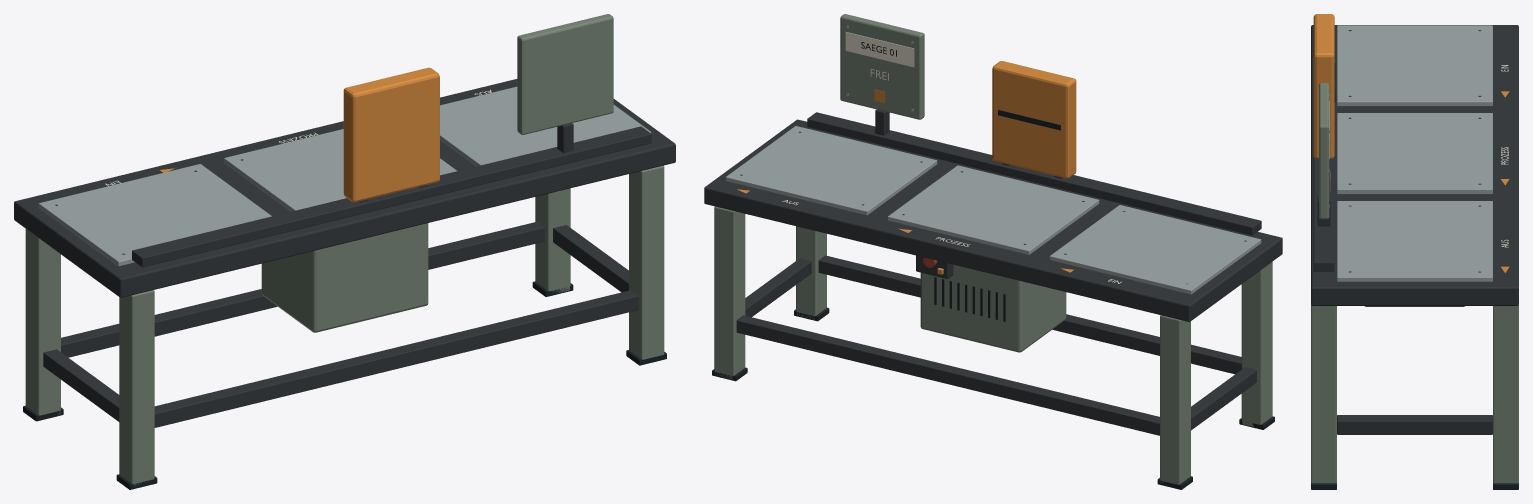
The model's file is Saege01.fbx.
The picture shows the model from 3 angles, left to right: view 1: azimuth 30°, elevation 25°; view 2: azimuth 150°, elevation 25°; view 3: azimuth 270°, elevation 25°; orthographic projection. The views are drawn at different scales.
Parts seen in each view (by area): view 1: MainTable__MachineSteel.004, MotorHousing__MutedGreen.004, Platen_0__BrushedSteel.004, Moving_ParkedGuard__SafetyOrange.004, LongBrace__MachineSteel.008, StatusPlate__MutedGreen.004, RearRail__MachineSteel.004, Platen_2__BrushedSteel.004, Leg__MutedGreen.016, Leg__MutedGreen.018, Platen_1__BrushedSteel.004, LongBrace__MachineSteel.009 (+4 smaller); view 2: MainTable__MachineSteel.004, Platen_0__BrushedSteel.004, Platen_2__BrushedSteel.004, Platen_1__BrushedSteel.004, MotorHousing__MutedGreen.004, Moving_ParkedGuard__SafetyOrange.004, LongBrace__MachineSteel.009, RearRail__MachineSteel.004, StatusPlate__MutedGreen.004, Leg__MutedGreen.019, Leg__MutedGreen.017, LongBrace__MachineSteel.008 (+5 smaller); view 3: MainTable__MachineSteel.004, Platen_1__BrushedSteel.004, Platen_0__BrushedSteel.004, Platen_2__BrushedSteel.004, Leg__MutedGreen.018, Leg__MutedGreen.019, EndBrace__MachineSteel.009, Moving_ParkedGuard__SafetyOrange.004, RearRail__MachineSteel.004, StatusPlate__MutedGreen.004.
Boxes of the visible parts, left/top/right/bottom form: MainTable__MachineSteel.004: left=14, top=79, right=675, bottom=297; MotorHousing__MutedGreen.004: left=261, top=223, right=428, bottom=332; Platen_0__BrushedSteel.004: left=38, top=164, right=271, bottom=266; Moving_ParkedGuard__SafetyOrange.004: left=343, top=67, right=439, bottom=202; LongBrace__MachineSteel.008: left=154, top=290, right=638, bottom=427; StatusPlate__MutedGreen.004: left=517, top=14, right=613, bottom=134; RearRail__MachineSteel.004: left=132, top=126, right=651, bottom=267; Platen_2__BrushedSteel.004: left=440, top=86, right=651, bottom=166; Leg__MutedGreen.016: left=119, top=290, right=154, bottom=485; Leg__MutedGreen.018: left=629, top=165, right=664, bottom=359; Platen_1__BrushedSteel.004: left=224, top=129, right=456, bottom=211; LongBrace__MachineSteel.009: left=61, top=221, right=544, bottom=357; MainTable__MachineSteel.004: left=704, top=119, right=1282, bottom=321; Platen_0__BrushedSteel.004: left=1049, top=205, right=1261, bottom=294; Platen_2__BrushedSteel.004: left=725, top=126, right=937, bottom=215; Platen_1__BrushedSteel.004: left=887, top=165, right=1099, bottom=254; MotorHousing__MutedGreen.004: left=920, top=264, right=1066, bottom=352; Moving_ParkedGuard__SafetyOrange.004: left=992, top=61, right=1076, bottom=178; LongBrace__MachineSteel.009: left=736, top=315, right=1159, bottom=435; RearRail__MachineSteel.004: left=807, top=112, right=1261, bottom=235; StatusPlate__MutedGreen.004: left=840, top=14, right=924, bottom=119; Leg__MutedGreen.019: left=714, top=206, right=745, bottom=379; Leg__MutedGreen.017: left=1160, top=315, right=1190, bottom=485; LongBrace__MachineSteel.008: left=818, top=255, right=1241, bottom=374; MainTable__MachineSteel.004: left=1311, top=25, right=1518, bottom=305; Platen_1__BrushedSteel.004: left=1337, top=113, right=1492, bottom=194; Platen_0__BrushedSteel.004: left=1337, top=25, right=1492, bottom=106; Platen_2__BrushedSteel.004: left=1337, top=201, right=1492, bottom=281; Leg__MutedGreen.018: left=1311, top=304, right=1336, bottom=483; Leg__MutedGreen.019: left=1493, top=304, right=1518, bottom=483; EndBrace__MachineSteel.009: left=1337, top=415, right=1492, bottom=434; Moving_ParkedGuard__SafetyOrange.004: left=1313, top=14, right=1334, bottom=158; RearRail__MachineSteel.004: left=1313, top=156, right=1334, bottom=271; StatusPlate__MutedGreen.004: left=1319, top=83, right=1329, bottom=219.
Size of the model in its own units: 240 by 145 by 80.
